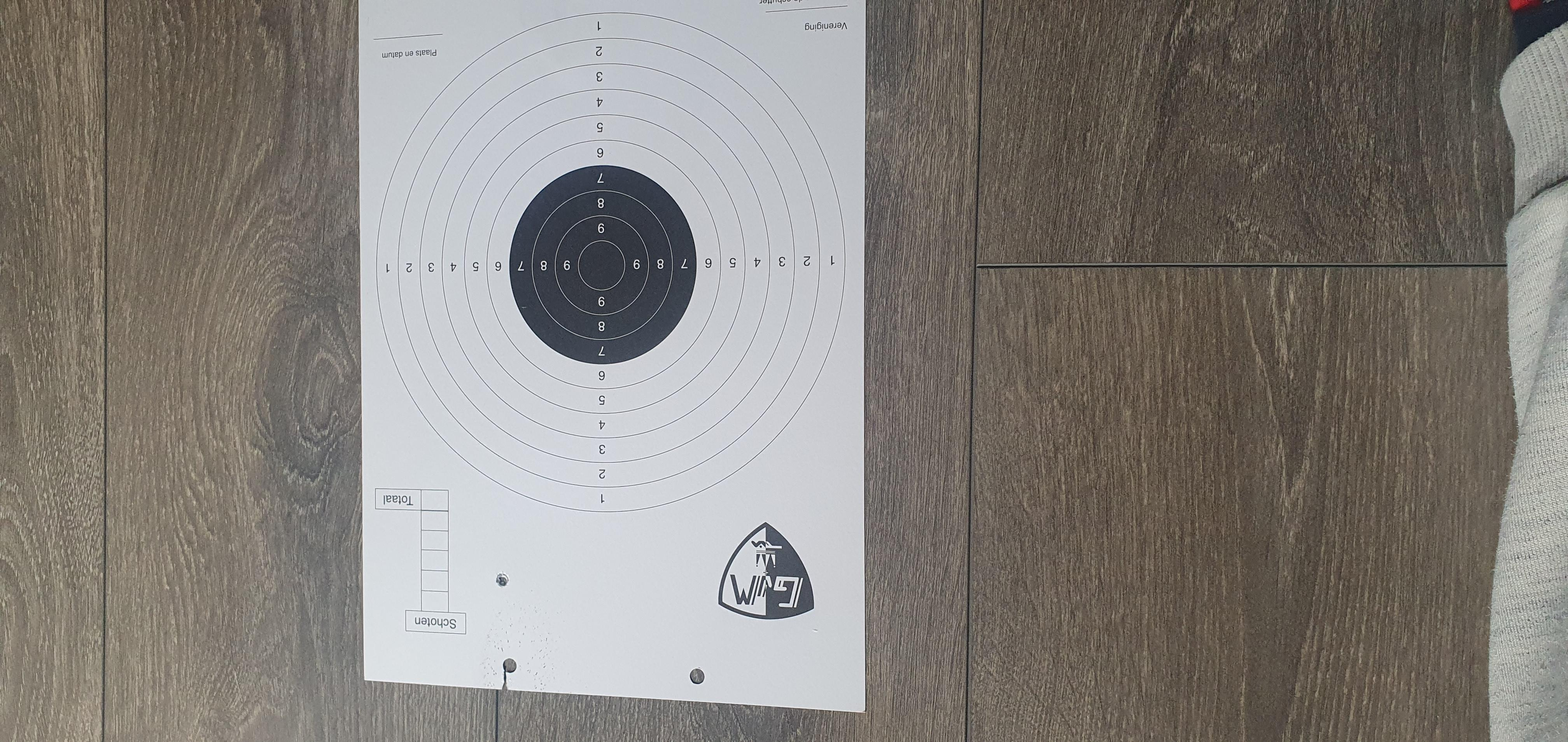hole: (322, 233, 362, 242)
